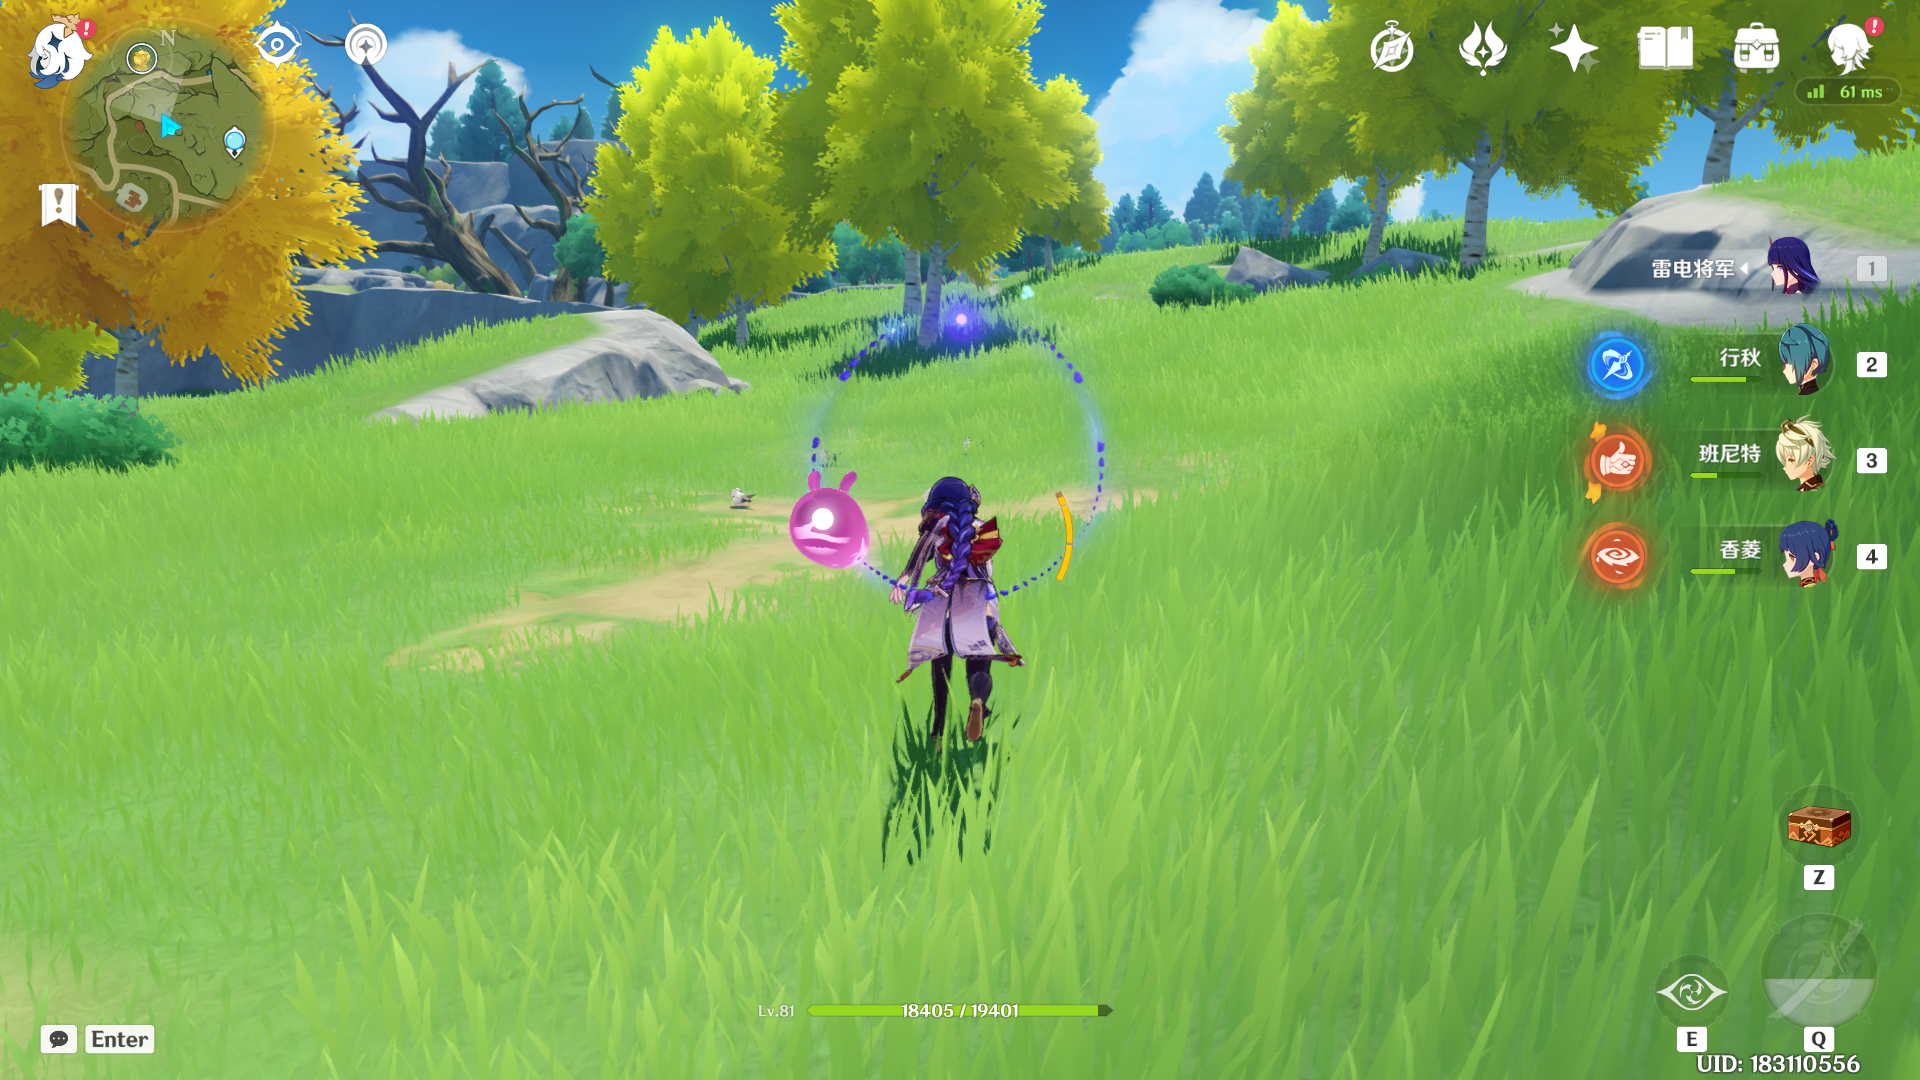character: (825, 421, 1075, 810)
